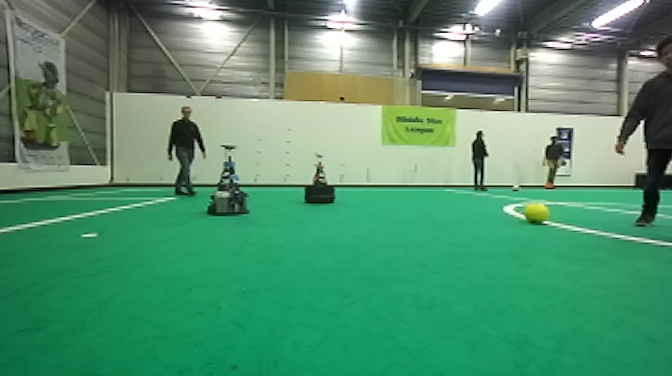ball: (522, 201, 549, 226), (510, 182, 521, 192), (542, 179, 552, 190)
human: (613, 35, 672, 229), (164, 105, 207, 198), (468, 128, 490, 190), (540, 131, 562, 189)
robot: (205, 143, 252, 217), (305, 154, 337, 205)
